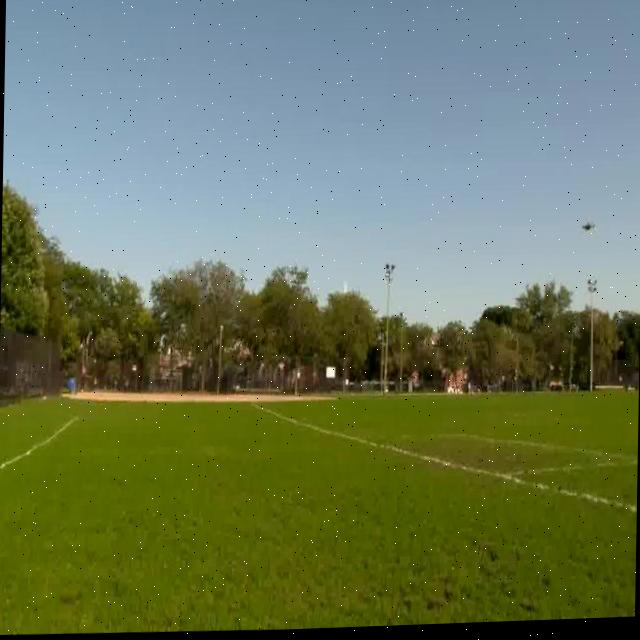drone: (576, 217, 602, 248)
